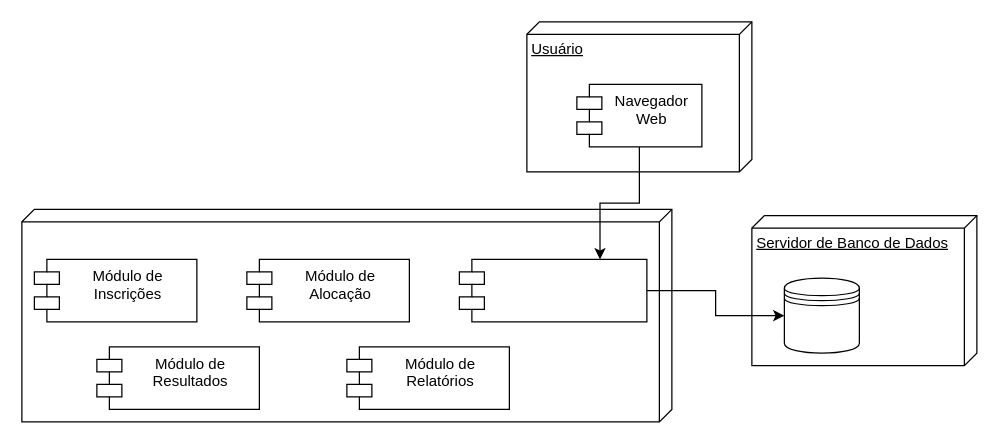
This 999x444 diagram has some shape labels left out. Here are the shapes that lost their labels. From the top down, the box of each, then its label:
(458, 258, 647, 322): Sistema de Gestão das Olimpíadas (SGO)
(21, 208, 672, 422): Servidor de Aplicação
(783, 277, 859, 353): BD
